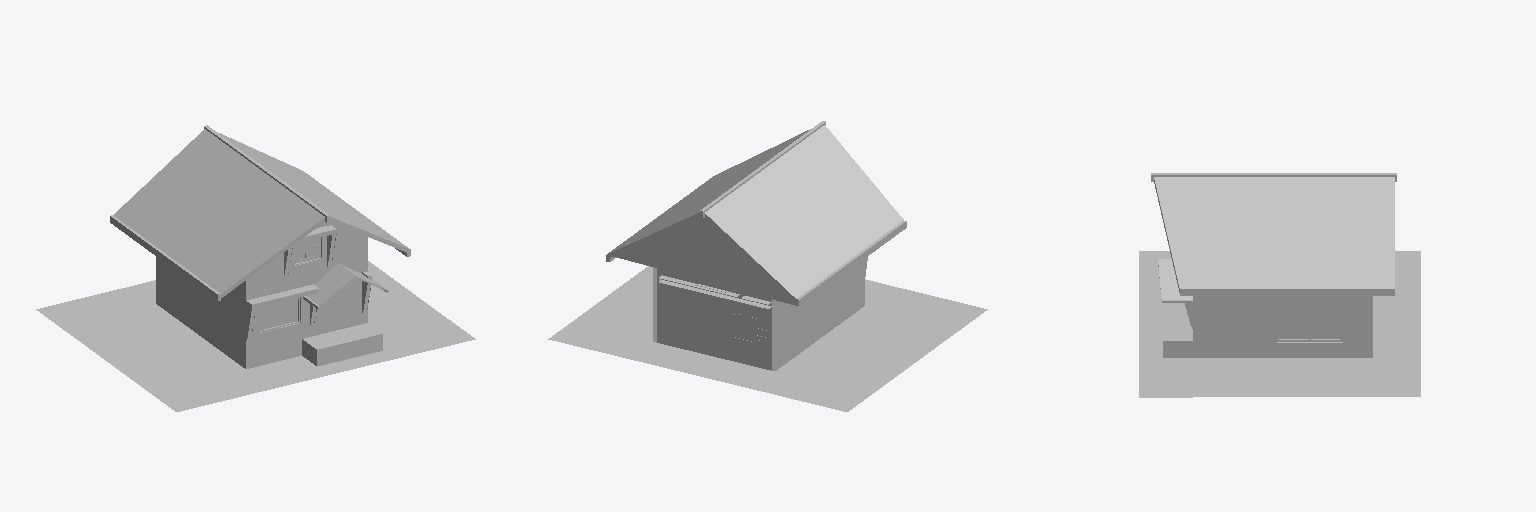
Rendered from Cottage Design Final.obj.
3 renders of one model, left to right at view 1: azimuth 30°, elevation 25°; view 2: azimuth 150°, elevation 25°; view 3: azimuth 270°, elevation 25°, orthographic.
Visible parts, largest first — view 1: Mesh13 Group9 Model, Mesh16 Group12 Model, Mesh34 Group16 Model, Mesh14 Group10 Model, Mesh15 Group11 Model, Mesh36 Group18 Model, Mesh7 Group1 Model, Mesh11 Group7 Model, Mesh10 Group6 Model, Mesh12 Group8 Model, Mesh121 Group_4_3 Model, Mesh119 Group_4_1 Model (+1 smaller); view 2: Mesh13 Group9 Model, Mesh16 Group12 Model, Mesh34 Group16 Model, Mesh15 Group11 Model, Mesh36 Group18 Model, Mesh14 Group10 Model, Mesh121 Group_4_3 Model, Mesh119 Group_4_1 Model; view 3: Mesh13 Group9 Model, Mesh34 Group16 Model, Mesh15 Group11 Model, Mesh16 Group12 Model, Mesh14 Group10 Model, Mesh152 Window_Doublehung_Double_67x64_2 Model, Mesh119 Group_4_1 Model, Mesh36 Group18 Model, Mesh10 Group6 Model, Mesh123 Group_4_5 Model.
Boxes of the visible parts, <box> form: Mesh13 Group9 Model: <box>110,129,410,300</box>; Mesh16 Group12 Model: <box>36,280,244,392</box>; Mesh34 Group16 Model: <box>156,222,382,368</box>; Mesh14 Group10 Model: <box>151,320,475,411</box>; Mesh15 Group11 Model: <box>368,261,448,335</box>; Mesh36 Group18 Model: <box>300,241,377,366</box>; Mesh7 Group1 Model: <box>314,279,361,335</box>; Mesh11 Group7 Model: <box>246,285,314,341</box>; Mesh10 Group6 Model: <box>306,263,388,308</box>; Mesh12 Group8 Model: <box>284,226,332,277</box>; Mesh121 Group_4_3 Model: <box>110,215,220,300</box>; Mesh119 Group_4_1 Model: <box>204,125,329,222</box>; Mesh13 Group9 Model: <box>606,125,906,305</box>; Mesh16 Group12 Model: <box>548,306,960,411</box>; Mesh34 Group16 Model: <box>653,259,864,370</box>; Mesh15 Group11 Model: <box>573,266,652,341</box>; Mesh36 Group18 Model: <box>659,275,771,360</box>; Mesh14 Group10 Model: <box>865,279,987,328</box>; Mesh121 Group_4_3 Model: <box>797,220,906,305</box>; Mesh119 Group_4_1 Model: <box>700,121,825,217</box>; Mesh13 Group9 Model: <box>1154,177,1394,293</box>; Mesh34 Group16 Model: <box>1163,296,1372,357</box>; Mesh15 Group11 Model: <box>1193,358,1372,396</box>; Mesh16 Group12 Model: <box>1373,251,1420,396</box>; Mesh14 Group10 Model: <box>1139,251,1192,397</box>; Mesh152 Window_Doublehung_Double_67x64_2 Model: <box>1277,303,1342,341</box>; Mesh119 Group_4_1 Model: <box>1151,173,1396,181</box>; Mesh36 Group18 Model: <box>1163,309,1192,337</box>; Mesh10 Group6 Model: <box>1158,259,1192,302</box>; Mesh123 Group_4_5 Model: <box>1180,289,1394,295</box>.
Size of the model in its own units: 10.92 by 5.96 by 8.88.